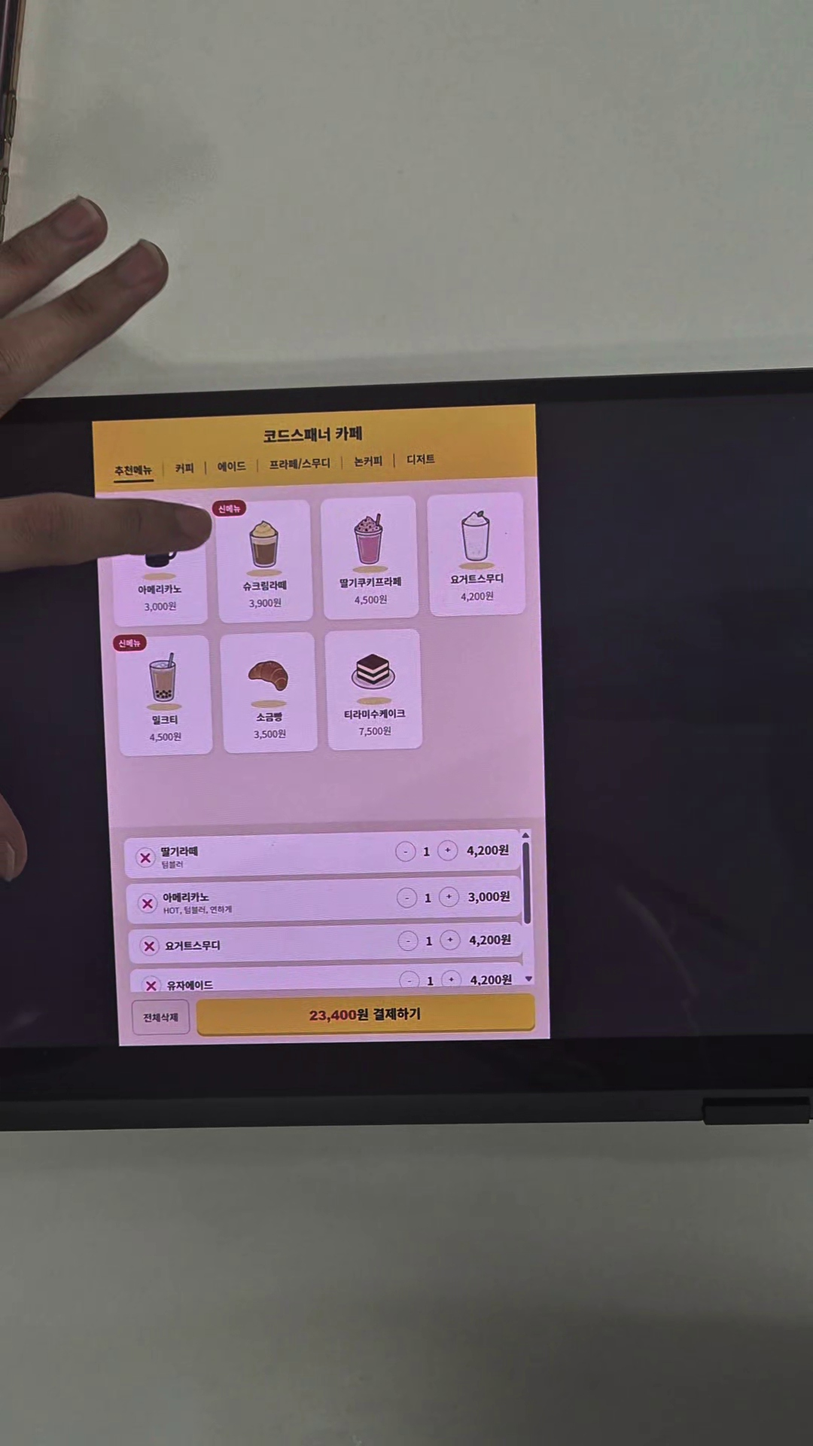action_button: (196, 993, 535, 1036), (132, 999, 190, 1035)
cart_item: (124, 829, 521, 879), (127, 875, 522, 924), (129, 922, 523, 964), (130, 962, 523, 992)
category_tab: (269, 456, 331, 471), (115, 464, 153, 477), (217, 460, 246, 473), (354, 455, 383, 468), (406, 453, 436, 465), (175, 462, 194, 474)
menu_back: (214, 500, 314, 624), (427, 492, 526, 617), (321, 495, 419, 620), (110, 504, 208, 627), (325, 629, 424, 750), (115, 635, 213, 757), (220, 631, 318, 753)
menu_name: (339, 576, 402, 589), (343, 708, 406, 720), (450, 573, 504, 585), (243, 580, 287, 592), (138, 584, 182, 595), (151, 714, 178, 726), (256, 711, 283, 723)
menu_price: (248, 597, 282, 609), (254, 729, 287, 741), (460, 591, 494, 602), (358, 726, 392, 737), (144, 601, 177, 612), (354, 594, 387, 605), (149, 732, 182, 743)
